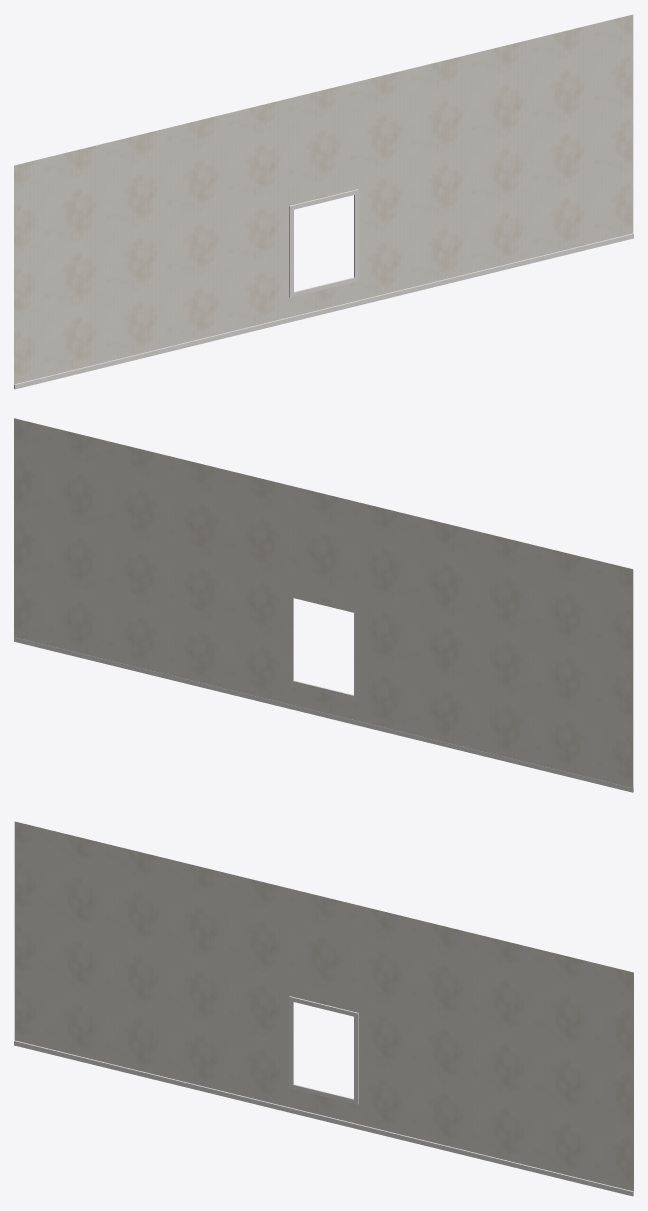
The model's file is wall20_door_hi.gltf.
The picture shows the model from 3 angles, top to bottom: view 1: azimuth 30°, elevation 25°; view 2: azimuth 150°, elevation 25°; view 3: azimuth 330°, elevation 25°; orthographic projection.
Visible parts, largest first — view 1: jx_w20_door_hi; view 2: jx_w20_door_hi; view 3: jx_w20_door_hi.
Boxes of the visible parts, x1,y1,x2,y2 form: jx_w20_door_hi: (14,14,633,389); jx_w20_door_hi: (14,418,633,792); jx_w20_door_hi: (14,821,633,1196).
Bounding box in the file's own units: 20.3 × 7 × 0.05.
2 materials, 2 textured.
